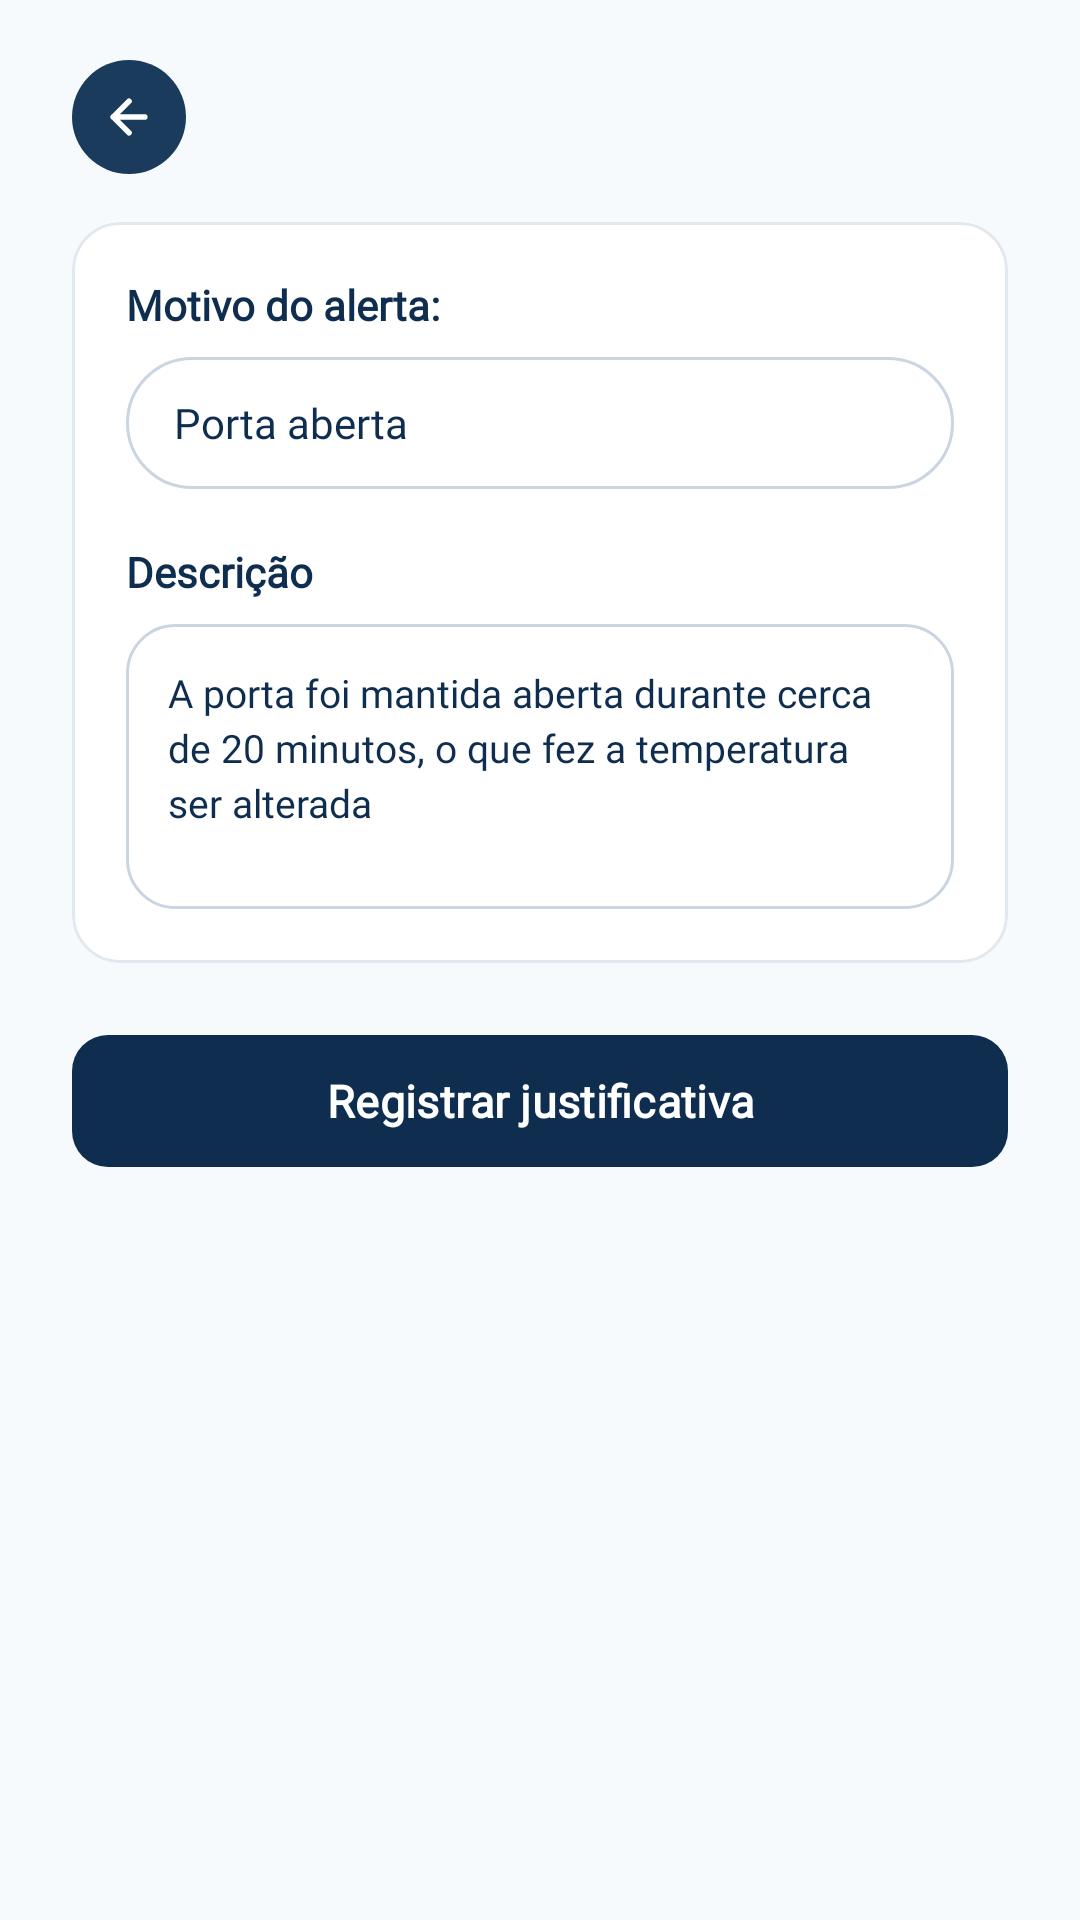

Icons on this 1080*1920 Android screen, each with its box as (x1, y1, x2, y2):
Voltar: (110, 98, 148, 136)
